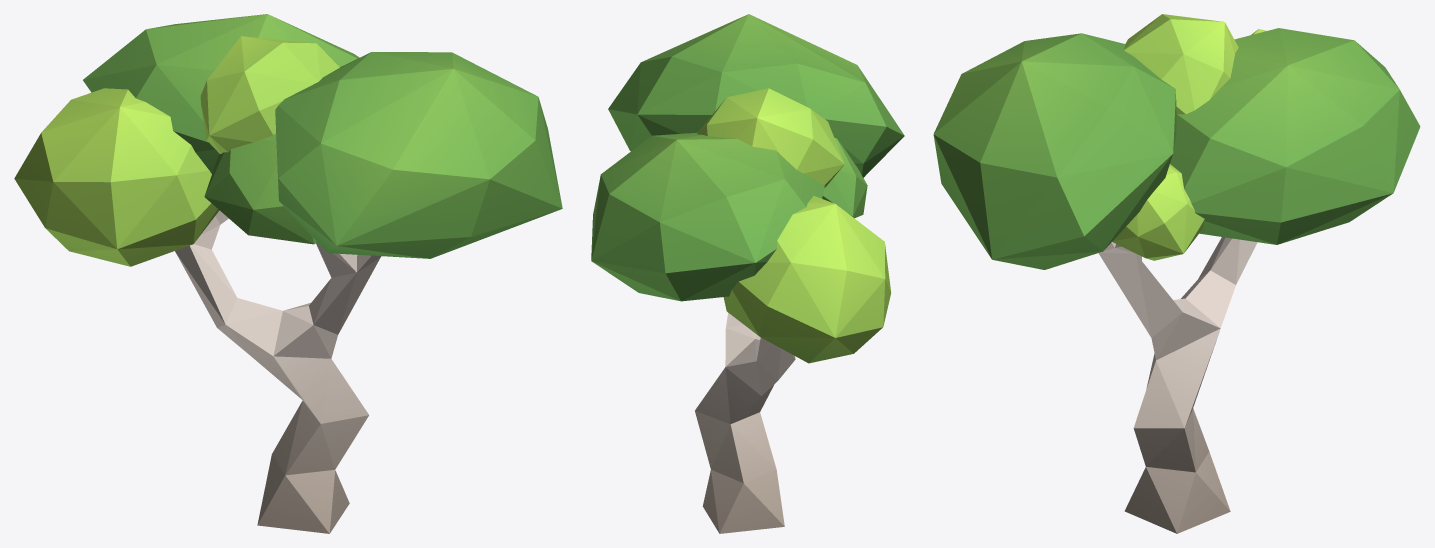
Rendered from GreenTree2.fbx.
3 renders of one model, left to right at view 1: azimuth 30°, elevation 25°; view 2: azimuth 150°, elevation 25°; view 3: azimuth 270°, elevation 25°, orthographic. The views are drawn at different scales.
Visible parts, largest first — view 1: GreenTree2; view 2: GreenTree2; view 3: GreenTree2.
Boxes of the visible parts, x1,y1,x2,y2 form: GreenTree2: [14, 14, 562, 533]; GreenTree2: [591, 14, 904, 533]; GreenTree2: [933, 14, 1420, 533].
Size of the model in its own units: 404 by 463 by 421.
